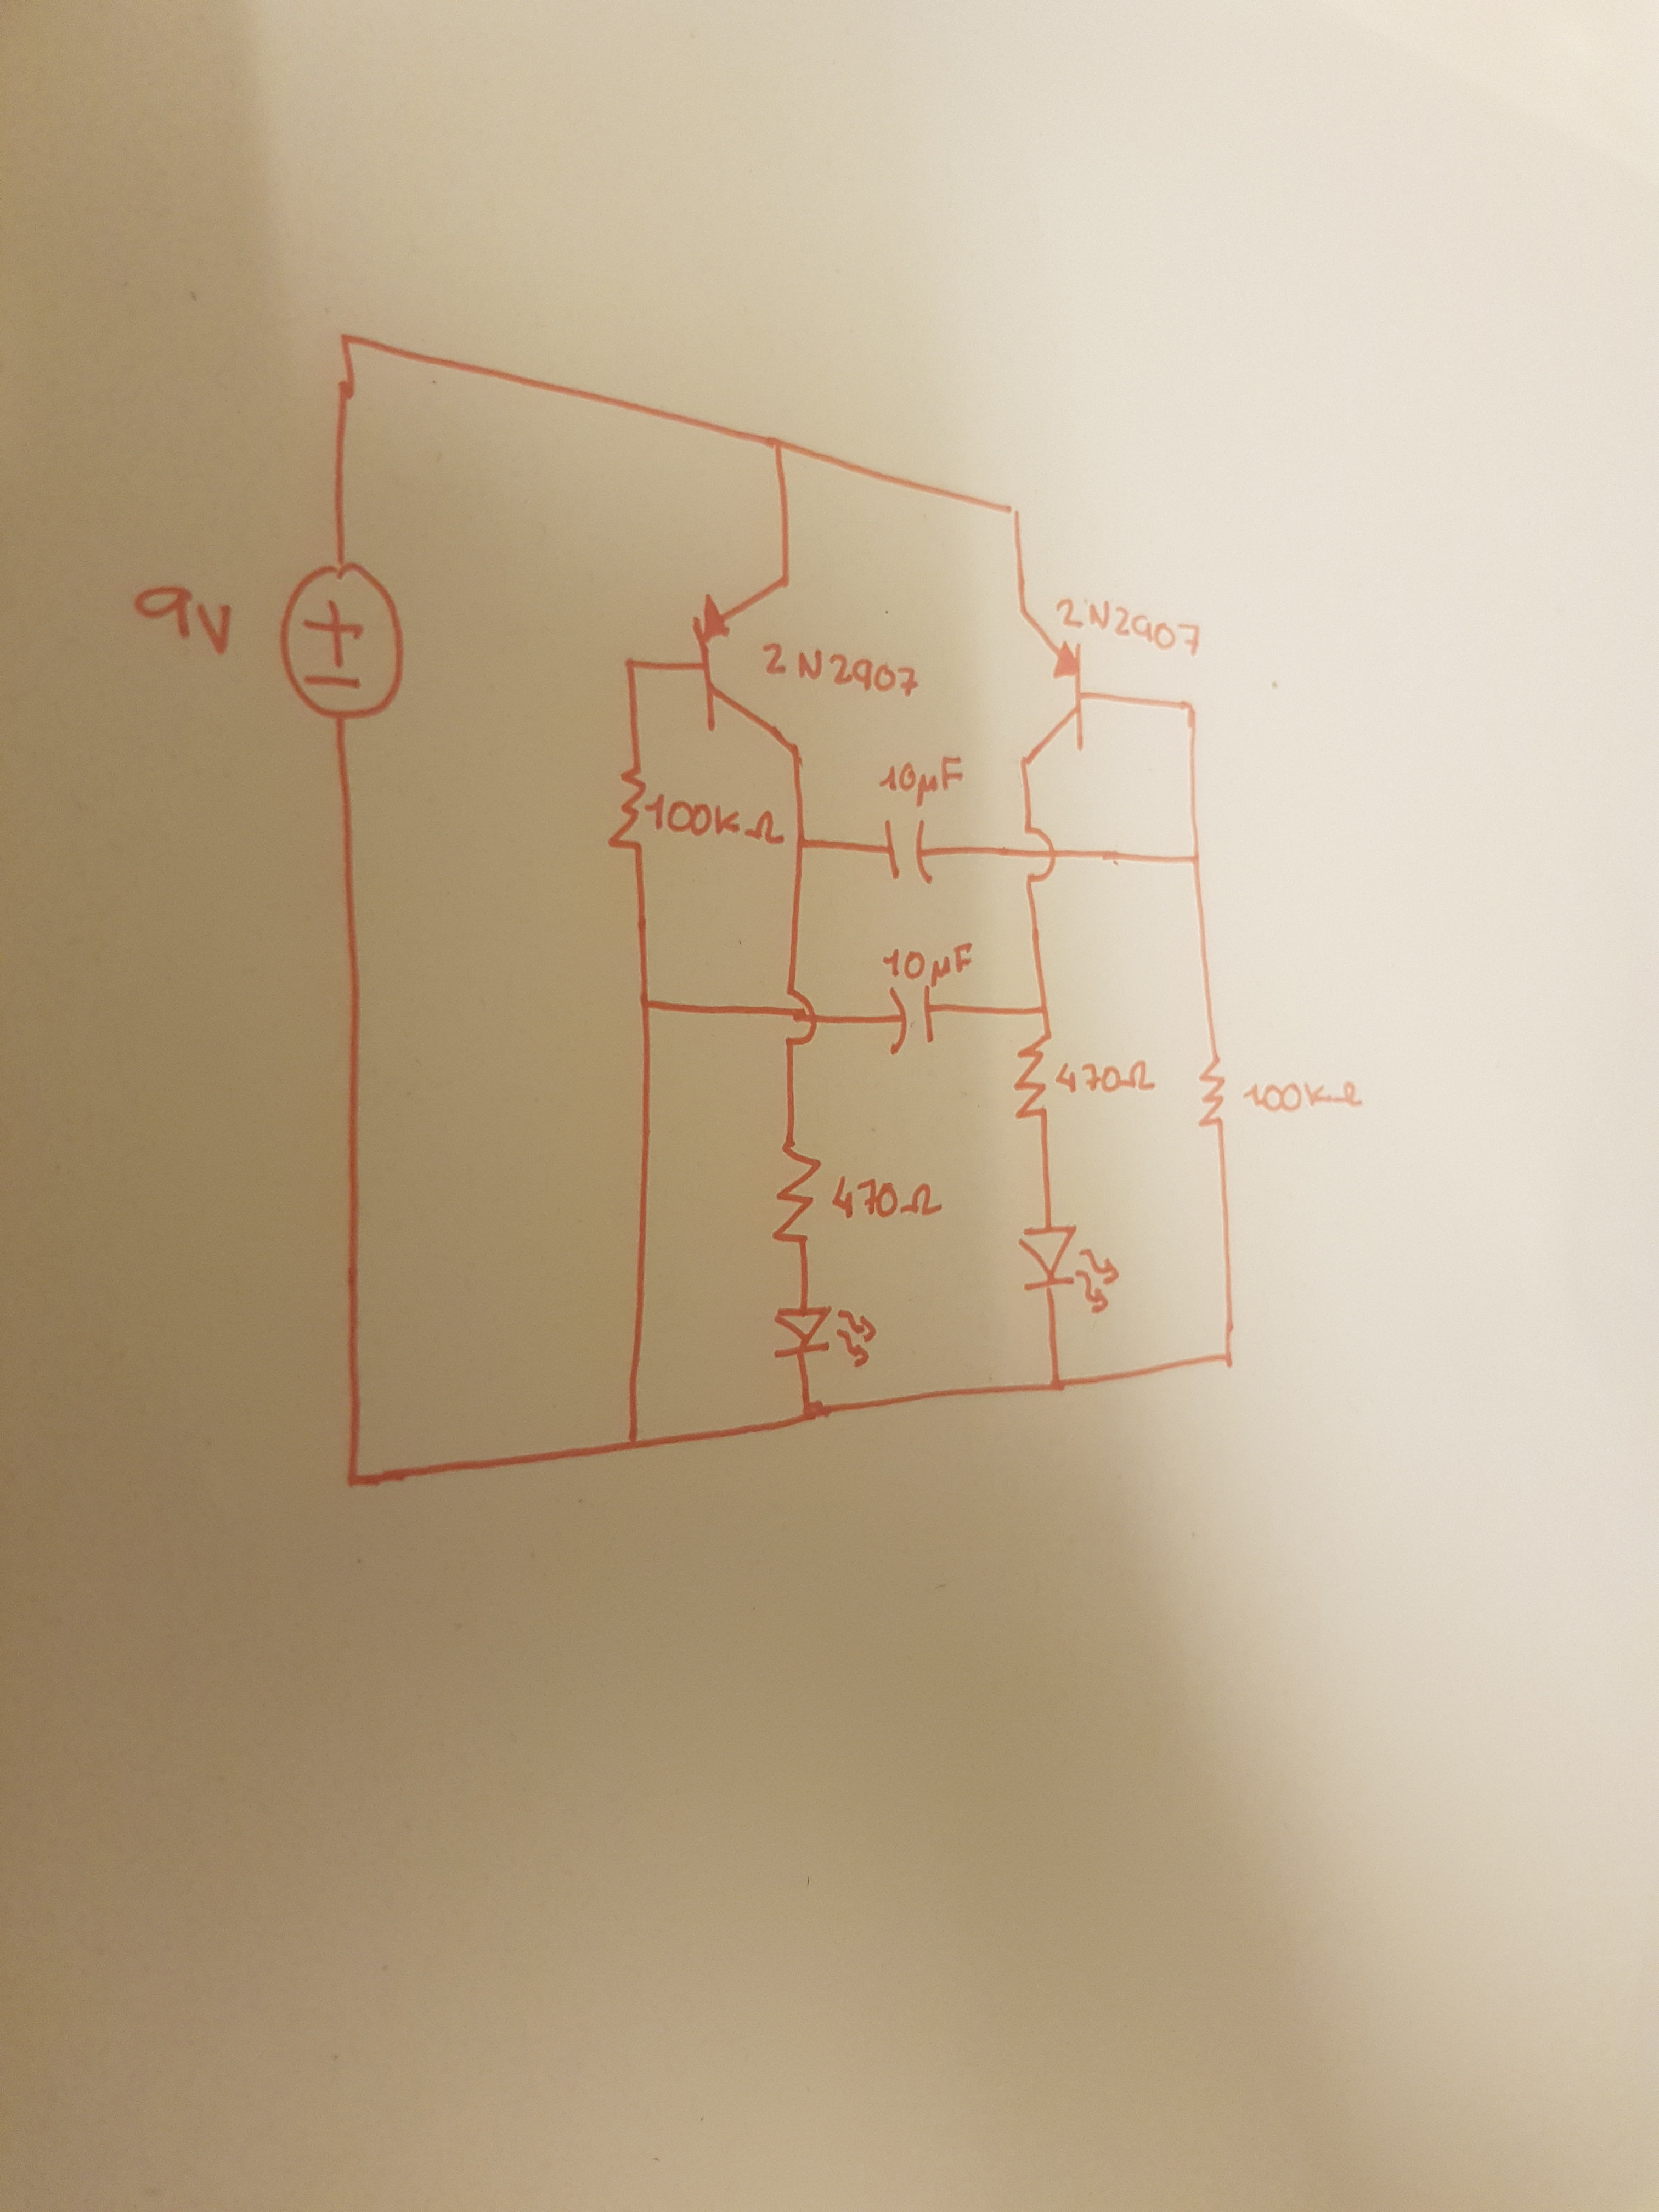capacitor.unpolarized: (880, 810, 945, 894), (878, 981, 941, 1057)
crossover: (1016, 822, 1060, 885), (781, 988, 821, 1045)
diode.light_emitting: (1014, 1221, 1124, 1320), (767, 1303, 884, 1371)
junction: (338, 1463, 371, 1500), (1211, 1341, 1241, 1378), (762, 423, 791, 460), (617, 1430, 648, 1461), (335, 322, 362, 355), (1002, 498, 1032, 528), (631, 989, 659, 1019), (1042, 1371, 1070, 1399), (795, 1402, 823, 1430), (619, 650, 645, 678), (1180, 697, 1206, 725), (1185, 843, 1208, 874), (791, 831, 814, 859), (1030, 1000, 1056, 1019)
resistor: (767, 1141, 830, 1254), (603, 758, 650, 857), (1011, 1040, 1056, 1120), (1192, 1052, 1232, 1136)
text: (756, 637, 929, 705), (124, 577, 240, 660), (1051, 596, 1218, 653), (873, 749, 969, 817), (645, 792, 772, 843), (824, 1177, 948, 1228), (870, 935, 981, 991), (1234, 1078, 1371, 1118), (1047, 1055, 1154, 1099)
transistor: (687, 564, 809, 763), (1007, 590, 1091, 777)
voltage.dc: (272, 556, 410, 728)
